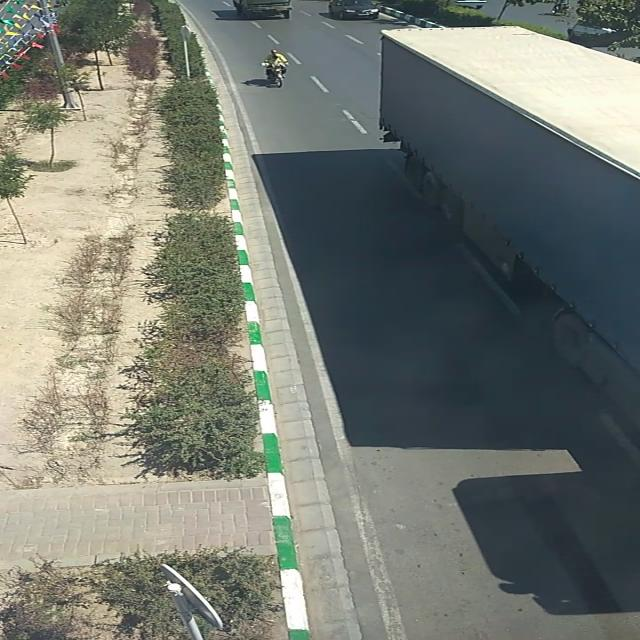car: (330, 1, 378, 20)
motor: (264, 46, 288, 90)
truck: (382, 27, 640, 455)
